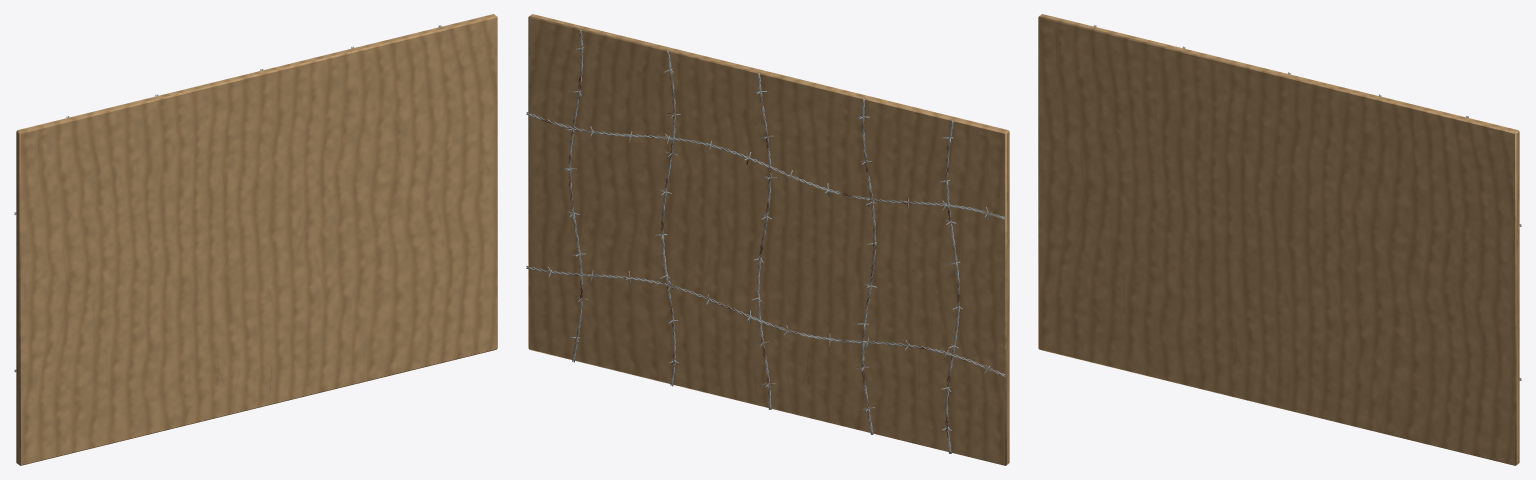
The model's file is barbed_wire_board.glb.
3 views of the same model, side by side, from view 1: azimuth 30°, elevation 25°; view 2: azimuth 150°, elevation 25°; view 3: azimuth 330°, elevation 25° (orthographic).
Visible parts, largest first — view 1: BarbedWireBoard_Clean_board; view 2: BarbedWireBoard_Clean_board, BarbedWireBoard_Clean_wire; view 3: BarbedWireBoard_Clean_board.
Part boxes in pixels (x1=…): BarbedWireBoard_Clean_board: x1=16, y1=14, x2=497, y2=465; BarbedWireBoard_Clean_board: x1=528, y1=14, x2=1009, y2=465; BarbedWireBoard_Clean_wire: x1=526, y1=29, x2=1005, y2=453; BarbedWireBoard_Clean_board: x1=1038, y1=14, x2=1519, y2=465.
Size of the model in its own units: 1.2 by 0.8015 by 0.0387.
2 materials, 2 textured.
